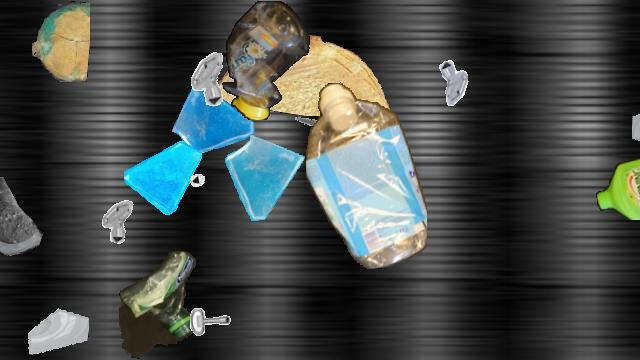glass: (219, 133, 311, 225), (171, 76, 259, 164), (124, 137, 202, 215), (0, 177, 55, 271), (27, 296, 89, 358), (632, 96, 640, 158)
metal: (177, 50, 235, 108), (184, 303, 240, 359), (432, 57, 480, 105), (91, 196, 139, 244), (290, 104, 334, 148), (187, 156, 225, 194)
plastic: (306, 81, 426, 269), (221, 1, 311, 119), (119, 249, 197, 359), (596, 143, 640, 219)
wood: (215, 35, 401, 115), (32, 1, 90, 81)
